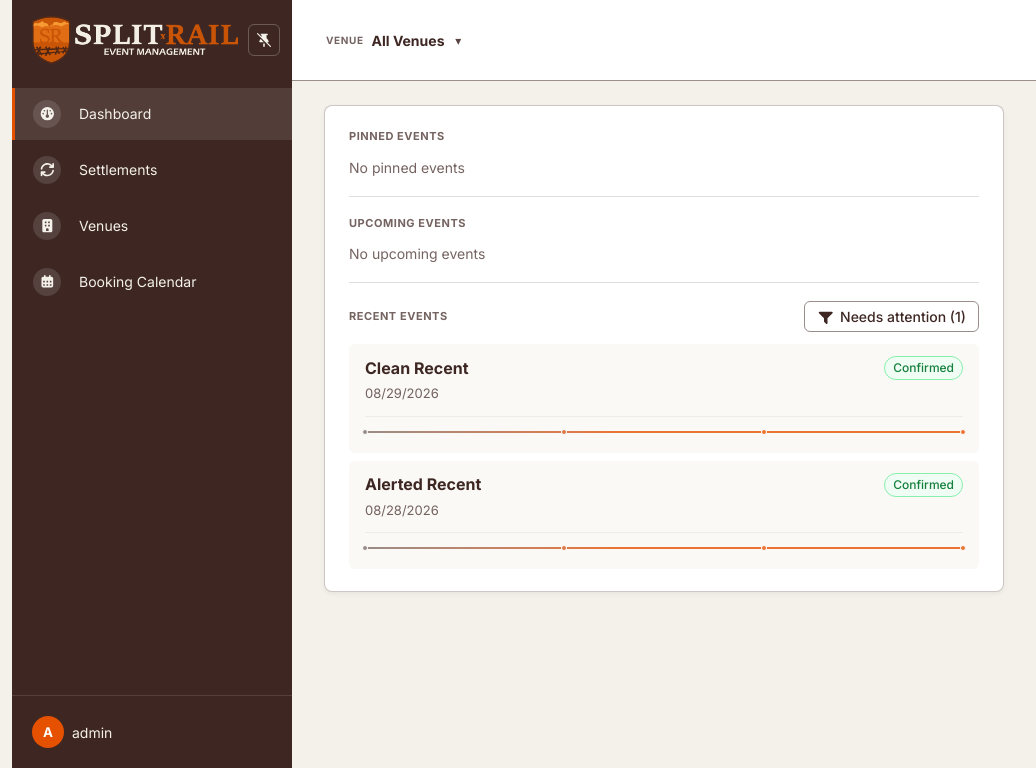
Test: DashboardOverviewPage › bottleneck filter › restores full recent list when filter deactivated
Expected: the element with test id "dashboard-zone-recent" is shown, 349,283 -> 979,579
Click the button with test id "bottleneck-filter-toggle" at (891, 316), box 804,301 -> 979,332
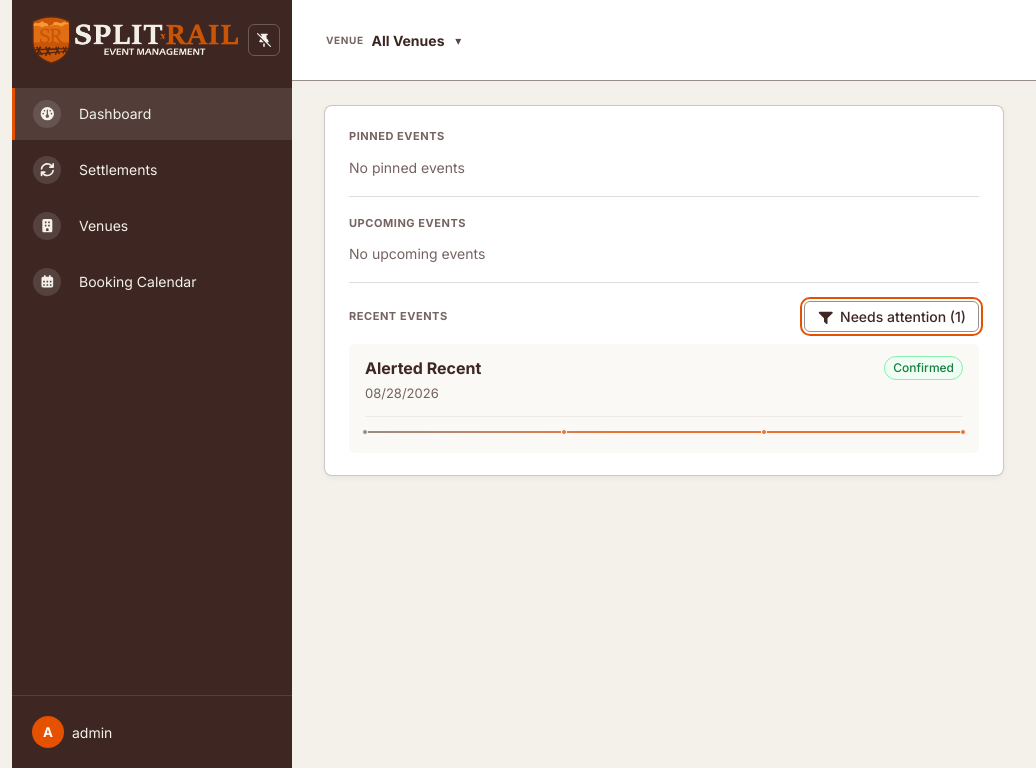
Click the button with test id "bottleneck-filter-toggle" at (891, 316), box 804,301 -> 979,332
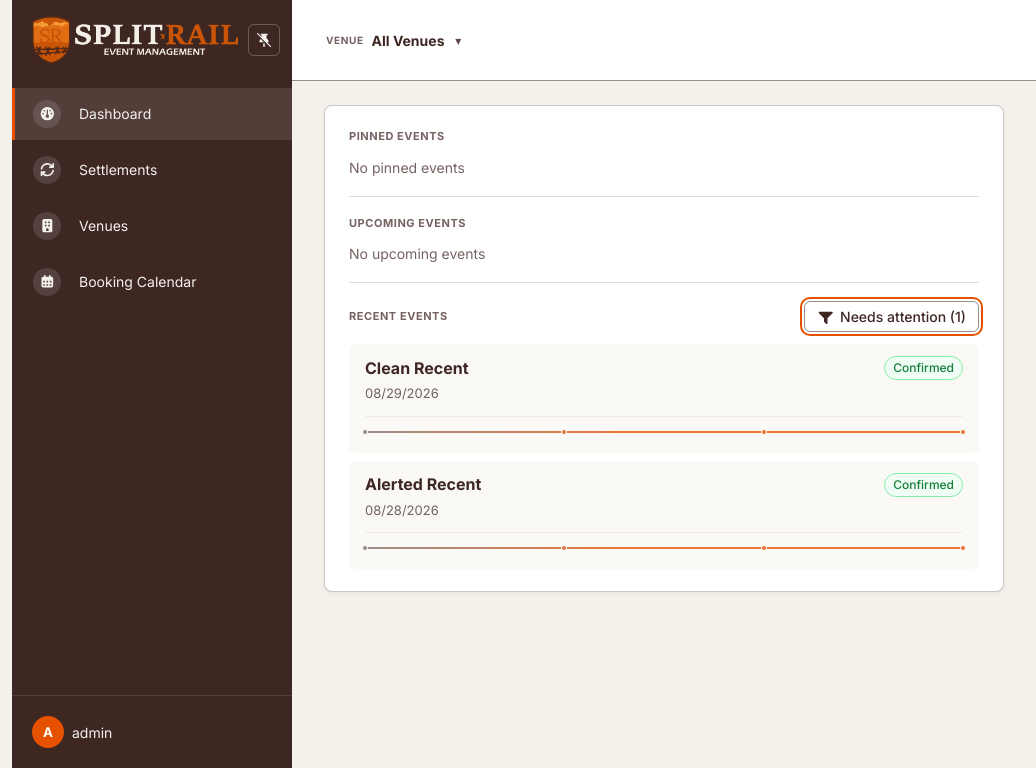
Expected: the heading "Alerted Recent" is shown, 365,474 -> 481,495
Expected: the heading "Clean Recent" is shown, 365,358 -> 468,378
